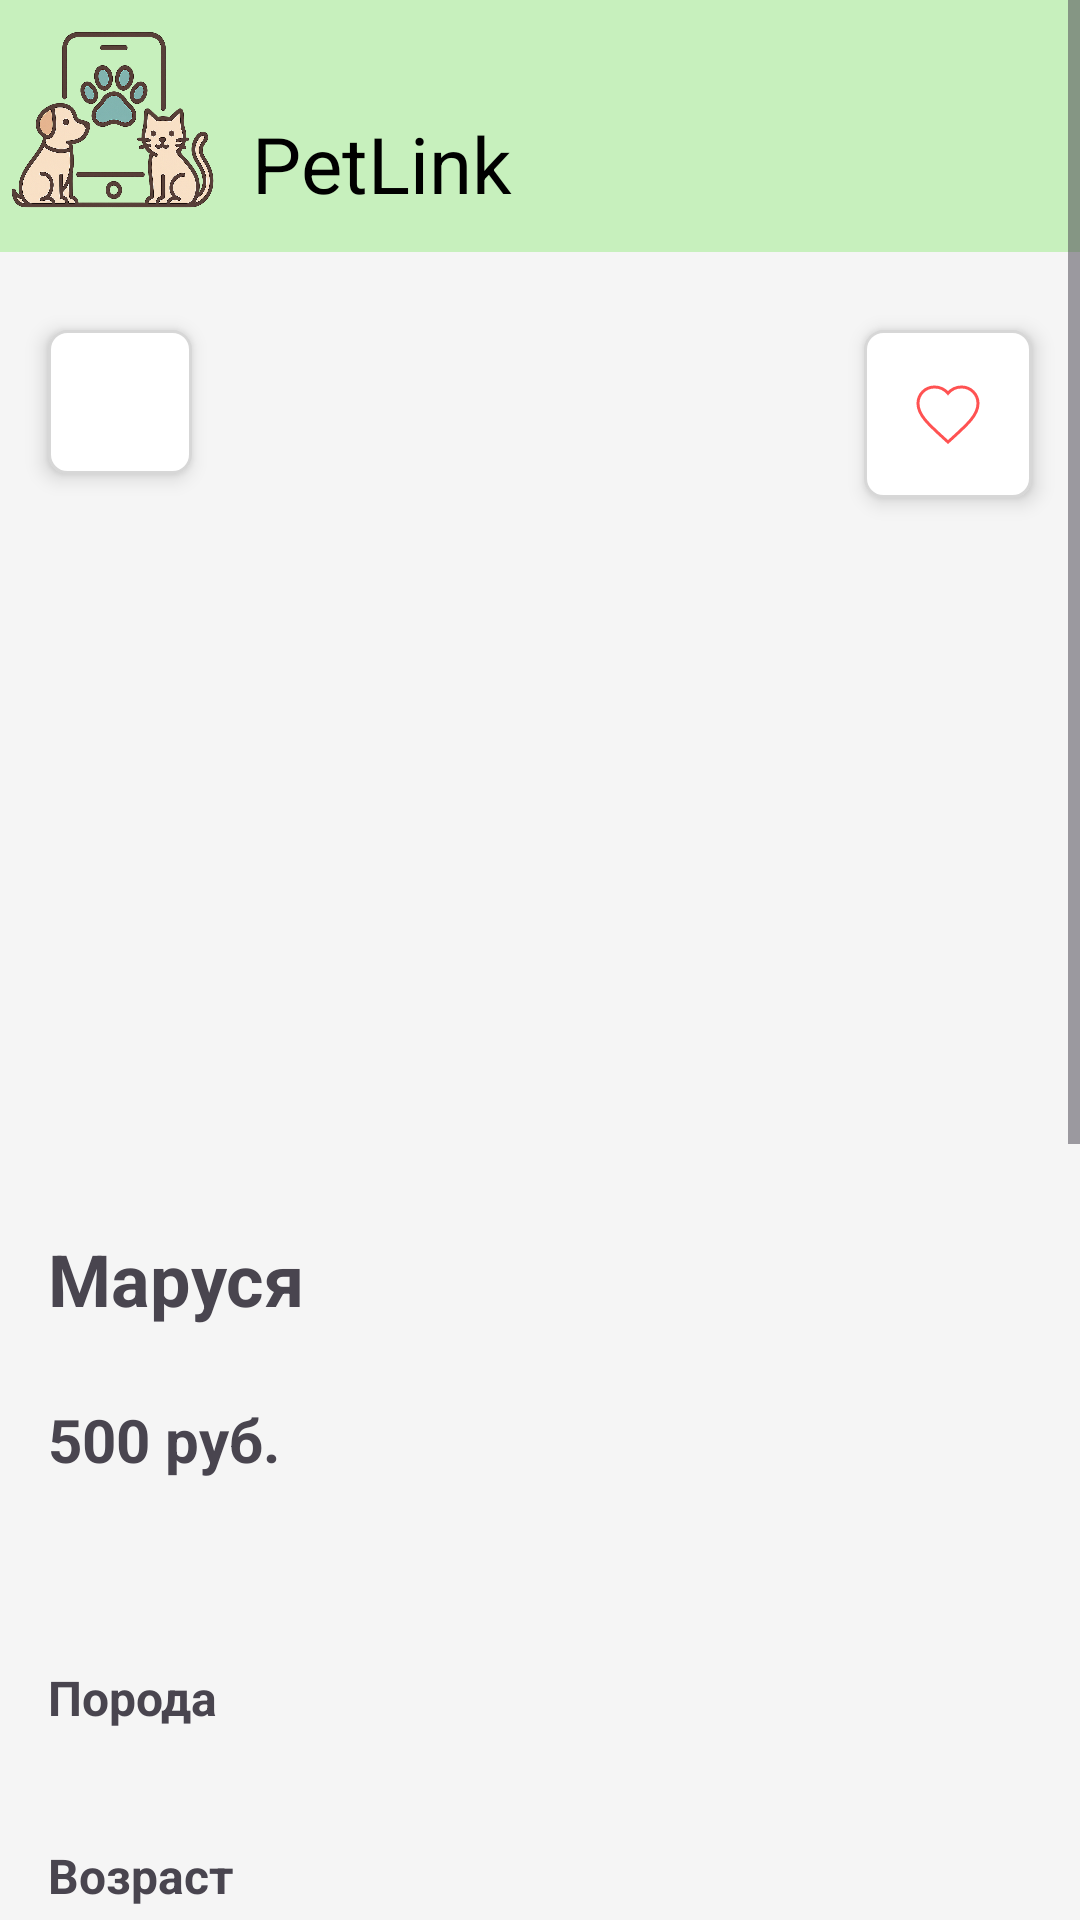

Icons on this 1080 x 1920 Android screen, each with the point to tap as (x=x, y=y):
heart: (x=948, y=414)
